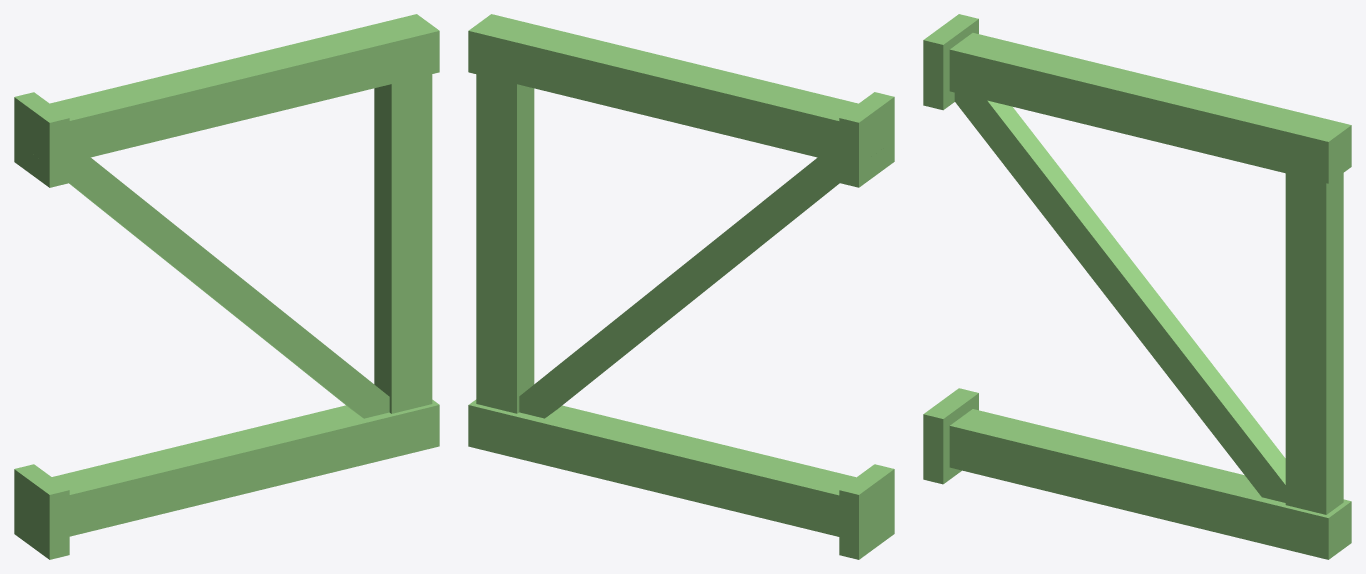
Rendered from Lattice.fbx.
3 renders of one model, left to right at view 1: azimuth 30°, elevation 25°; view 2: azimuth 150°, elevation 25°; view 3: azimuth 330°, elevation 25°, orthographic.
Visible parts, largest first — view 1: Lattice; view 2: Lattice; view 3: Lattice.
Boxes of the visible parts, left/top/right/bottom form: Lattice: left=14, top=14, right=439, bottom=559; Lattice: left=468, top=14, right=894, bottom=559; Lattice: left=923, top=14, right=1351, bottom=559.
Size of the model in its own units: 150 by 158 by 23.2.
